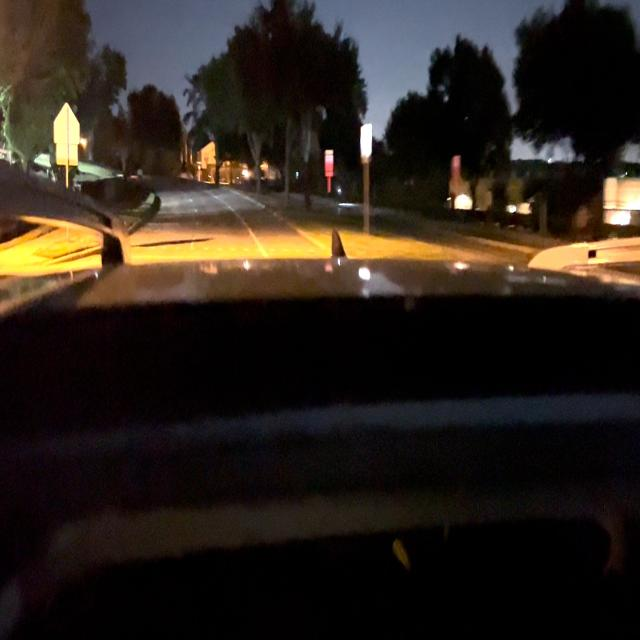back-of-sign: (55, 104, 80, 167)
